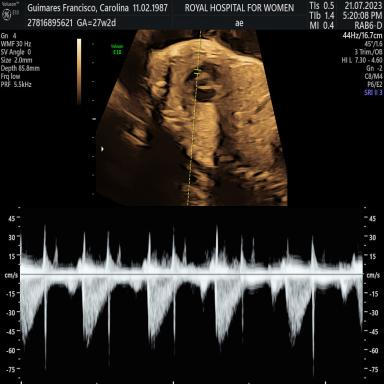Ultrasound-Waves: (26, 215, 361, 384)
